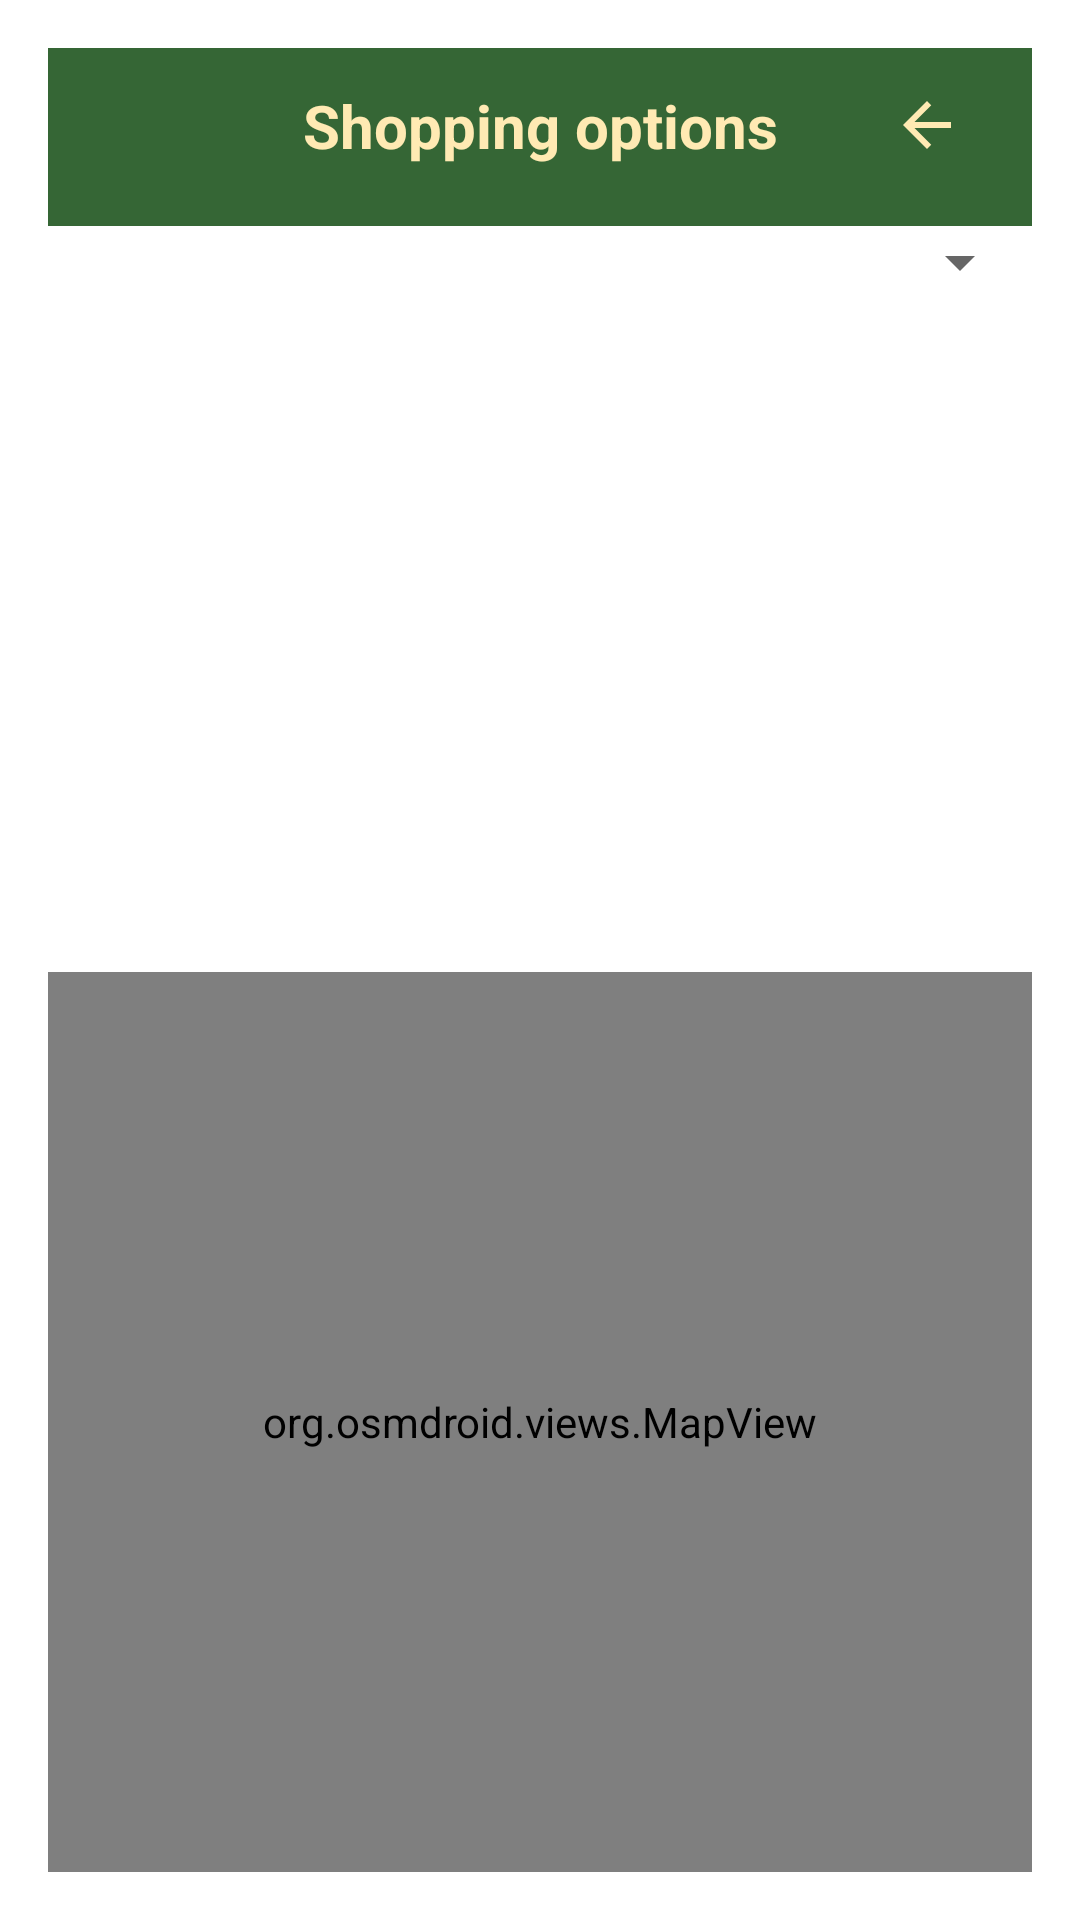

Named icons in this screenshot (1080px×1920px) and their bounding boxes, (x1, y1, x2, y2):
back: (903, 101, 951, 149)
